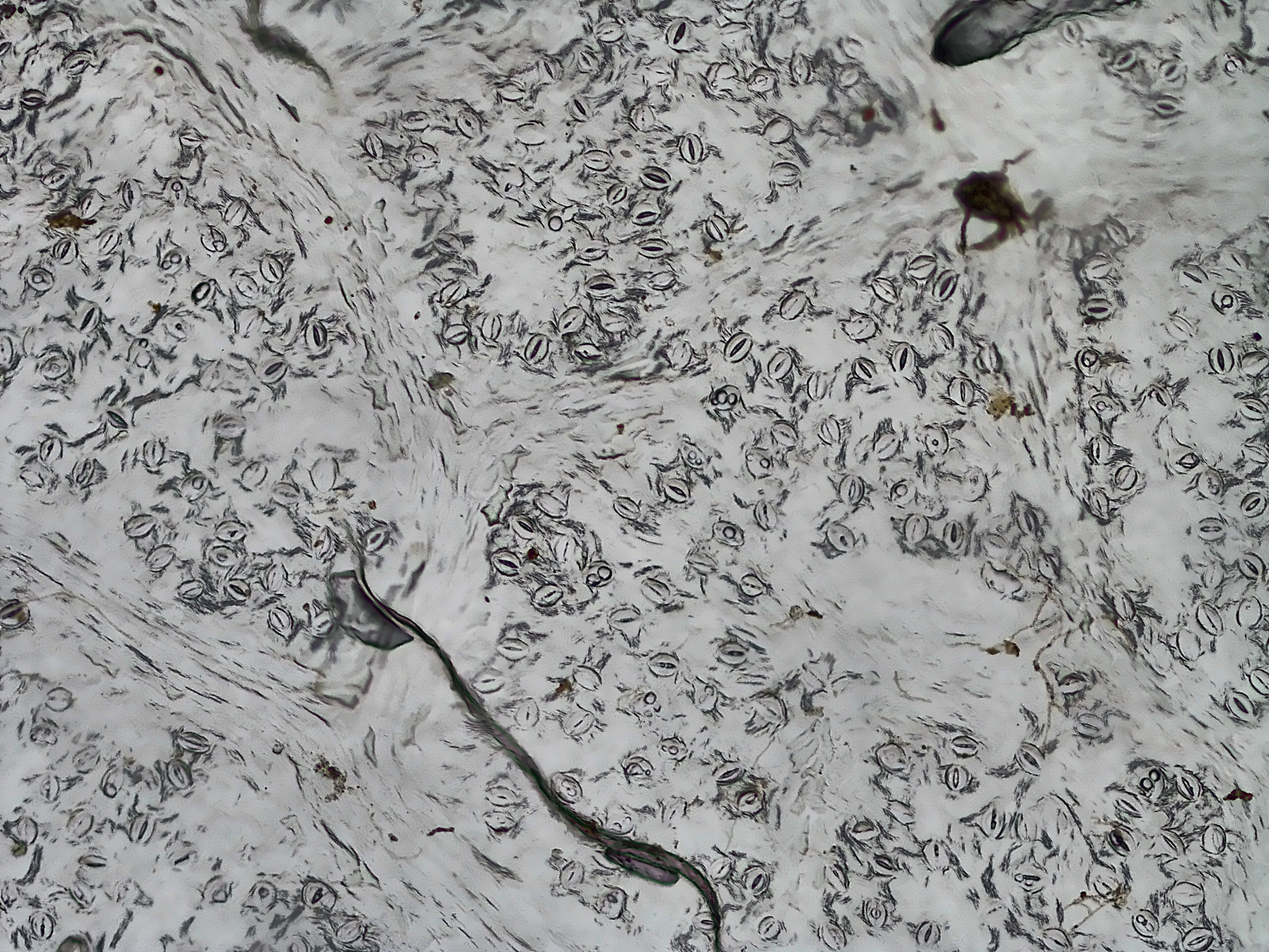stomata: (1007, 863, 1052, 899), (639, 56, 680, 85), (1013, 742, 1045, 775), (549, 773, 583, 804), (302, 881, 336, 911), (1195, 602, 1225, 635), (708, 382, 742, 411), (923, 837, 952, 871), (874, 742, 909, 770), (238, 458, 269, 489), (307, 457, 337, 489), (0, 599, 31, 629), (779, 288, 808, 320), (563, 709, 596, 737), (711, 519, 745, 546), (334, 918, 369, 944), (470, 667, 506, 692), (66, 807, 95, 838), (933, 269, 959, 303), (844, 816, 882, 839), (764, 350, 793, 380), (439, 279, 470, 307), (1197, 468, 1225, 499), (762, 116, 794, 143), (489, 549, 522, 575), (495, 638, 532, 661), (1237, 594, 1262, 628), (1181, 927, 1215, 952), (646, 652, 680, 677), (1236, 552, 1265, 581), (665, 17, 693, 47), (145, 543, 175, 571), (1225, 691, 1255, 719), (826, 523, 856, 551), (822, 863, 850, 893), (250, 880, 278, 910), (71, 744, 101, 772), (725, 331, 752, 362), (571, 664, 602, 691), (924, 424, 950, 456), (71, 456, 97, 488), (1040, 926, 1072, 952), (130, 811, 156, 843), (533, 491, 566, 516), (1171, 882, 1204, 907), (639, 165, 673, 189), (36, 355, 70, 379), (566, 93, 594, 122), (557, 306, 586, 334), (745, 450, 774, 478), (678, 441, 707, 469), (259, 356, 288, 384), (362, 523, 391, 551), (641, 577, 670, 605), (181, 474, 211, 501), (678, 132, 704, 163), (74, 302, 100, 333), (165, 758, 191, 789), (515, 696, 540, 728), (819, 921, 846, 950), (1158, 828, 1185, 857), (583, 274, 617, 297), (948, 376, 974, 406), (1208, 345, 1234, 375), (559, 860, 584, 891), (304, 319, 327, 352), (838, 476, 865, 504), (160, 246, 187, 274), (1109, 828, 1137, 855), (1132, 909, 1159, 937), (485, 786, 521, 807), (176, 732, 212, 753), (748, 66, 777, 92), (869, 277, 898, 303), (928, 323, 954, 352), (661, 478, 691, 503), (712, 760, 746, 782), (983, 802, 1005, 836), (770, 162, 801, 186), (745, 865, 769, 896), (524, 332, 547, 364), (865, 896, 888, 928), (656, 738, 688, 761), (872, 432, 899, 459), (613, 495, 641, 521), (1083, 254, 1112, 279), (1175, 770, 1200, 799), (906, 255, 936, 279), (509, 515, 539, 539), (1094, 874, 1124, 898), (607, 608, 641, 629), (407, 146, 438, 169), (62, 49, 93, 72), (456, 110, 482, 137), (736, 790, 763, 816), (630, 103, 655, 131), (96, 225, 121, 253), (1201, 824, 1226, 852), (124, 515, 157, 536), (1237, 397, 1268, 419), (1088, 488, 1110, 519), (1196, 518, 1227, 540), (214, 522, 248, 542), (904, 515, 930, 541), (943, 764, 969, 790), (259, 255, 284, 282), (708, 855, 733, 882), (29, 912, 54, 939), (890, 343, 914, 371), (770, 421, 798, 445), (120, 179, 141, 211), (532, 584, 564, 605), (788, 52, 811, 81), (42, 167, 71, 190), (141, 439, 164, 468), (1084, 298, 1113, 321), (1089, 434, 1112, 463), (45, 687, 74, 710), (755, 499, 777, 529), (1156, 57, 1187, 78), (717, 643, 748, 664), (162, 178, 187, 204), (201, 226, 226, 252), (53, 238, 78, 264), (1111, 45, 1136, 71), (269, 607, 293, 634), (1240, 491, 1267, 515), (916, 921, 940, 948), (596, 21, 624, 44), (1149, 96, 1181, 116), (1178, 265, 1207, 287), (646, 269, 676, 290), (314, 527, 332, 562), (638, 238, 671, 257), (39, 437, 64, 462), (756, 915, 782, 939), (232, 275, 259, 298), (577, 241, 608, 261), (38, 772, 60, 800), (807, 372, 827, 402), (267, 562, 287, 592), (574, 49, 600, 72), (704, 217, 730, 240), (441, 322, 468, 344), (225, 198, 247, 225), (210, 545, 237, 567), (1017, 507, 1039, 534), (1113, 593, 1135, 620), (685, 554, 716, 573), (25, 269, 53, 290), (105, 407, 129, 431), (950, 736, 980, 755), (633, 204, 660, 225), (364, 131, 384, 159), (853, 358, 876, 382), (1150, 386, 1172, 411), (944, 521, 965, 547), (582, 150, 610, 169), (80, 192, 100, 218), (225, 579, 251, 599), (482, 314, 501, 341), (403, 110, 430, 129), (539, 57, 560, 81), (820, 418, 841, 442), (20, 89, 48, 107), (741, 575, 765, 596), (77, 856, 108, 872), (870, 856, 896, 875), (1116, 465, 1137, 487), (573, 344, 603, 359), (178, 580, 203, 598), (607, 183, 628, 204), (181, 131, 201, 147)
